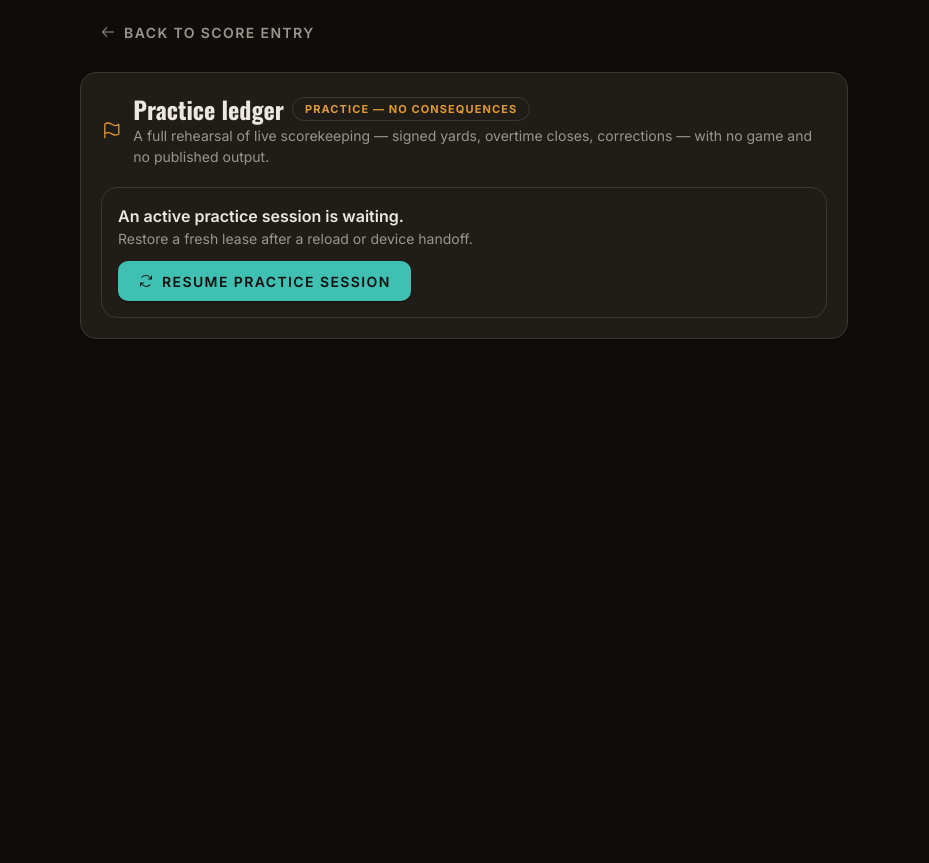
it: PracticeScorekeeper › finalize renders the returned projection preview in place instead of navigating
Click the button "Resume practice session" at (264, 281), box 118,261 -> 411,301
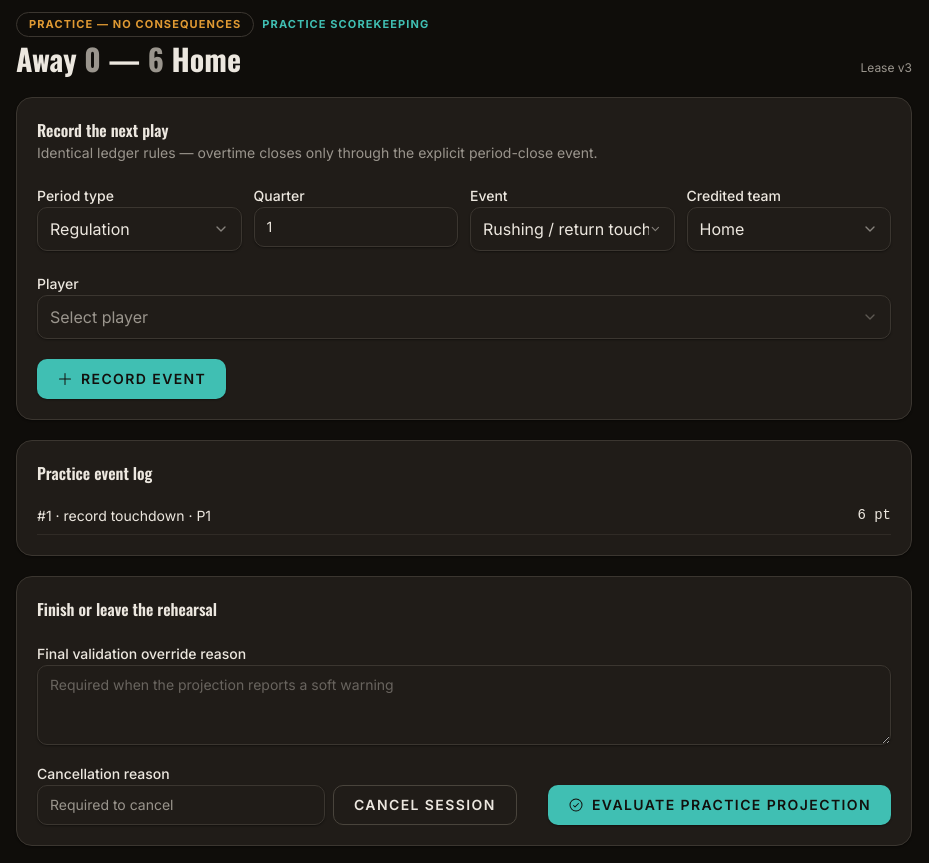
Expected: the text "Lease v3" is shown, 860,60 -> 912,77
Click the button "Evaluate practice projection" at (720, 805), box 548,785 -> 891,825
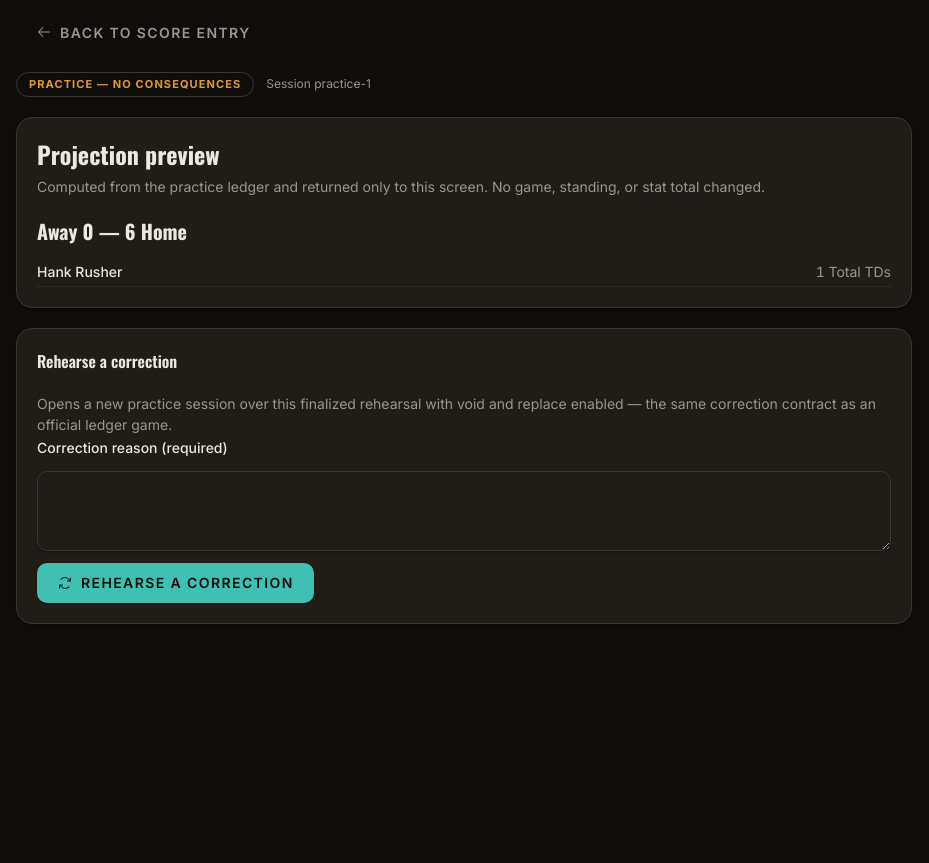
Expected: the element with test id "practice-projection-preview" is shown, 16,117 -> 912,308
Expected: the text "Projection preview" is shown, 37,136 -> 220,172
Expected: the text "Hank Rusher" is shown, 37,261 -> 122,282
